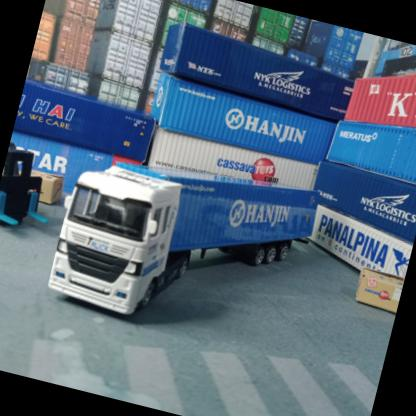truck: (45, 164, 190, 331)
